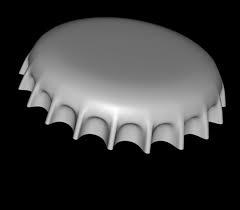Metal: (16, 9, 232, 168)
